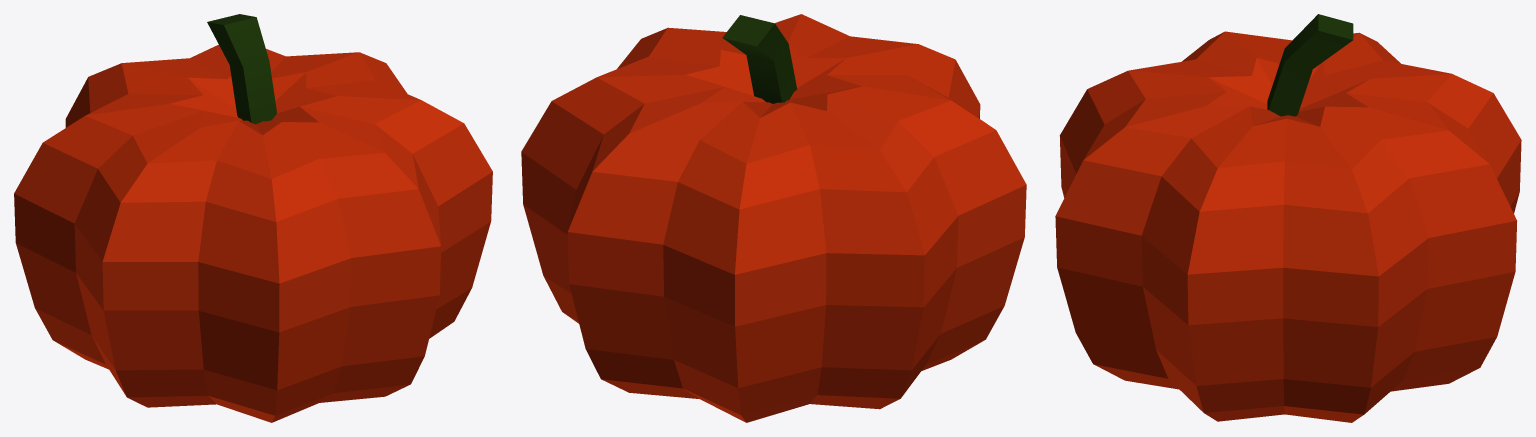
File: Pumpkin_1.FBX
3 views of the same model, side by side, from view 1: azimuth 30°, elevation 25°; view 2: azimuth 150°, elevation 25°; view 3: azimuth 270°, elevation 25° (orthographic). The views are drawn at different scales.
Parts seen in each view (by area): view 1: Pumpkin1; view 2: Pumpkin1; view 3: Pumpkin1.
Part boxes in pixels (box(x1,y1,x2,y2)): Pumpkin1: box(14, 14, 492, 422); Pumpkin1: box(521, 14, 1026, 422); Pumpkin1: box(1055, 14, 1521, 422).
Size of the model in its own units: 7.43 by 6.17 by 7.43.
